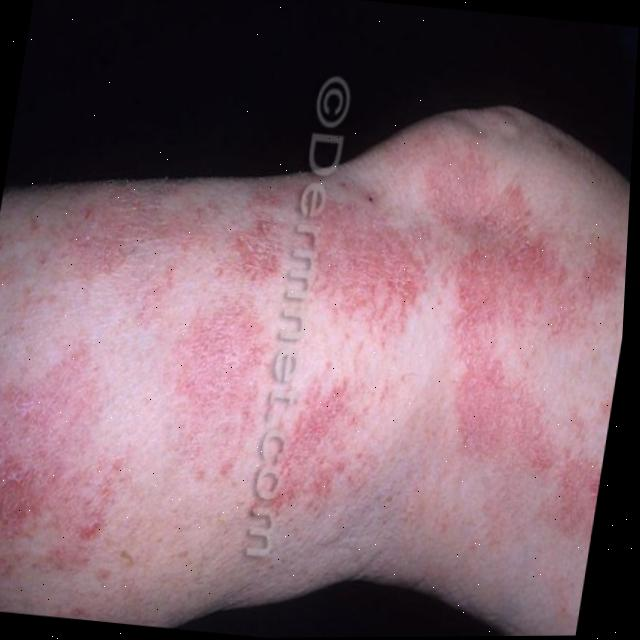Eczema: (0, 99, 635, 640)
